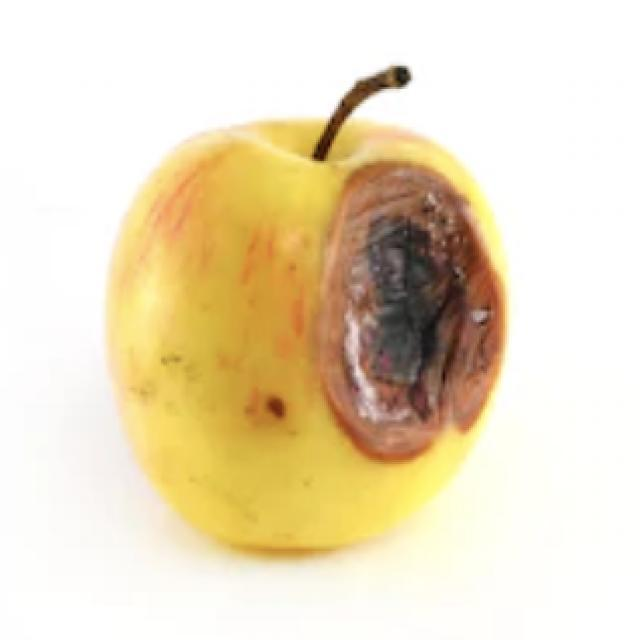Rotten: (101, 118, 503, 552)
